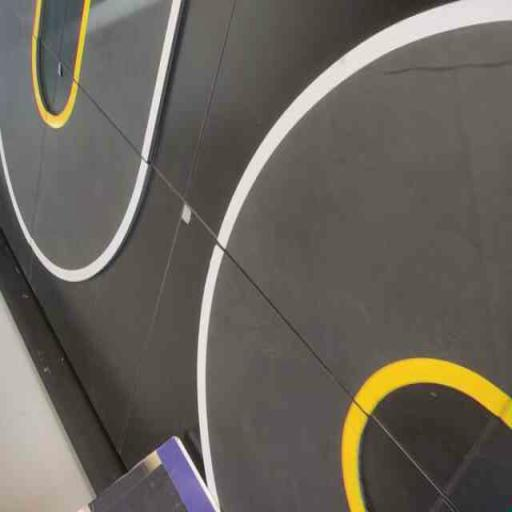left: (191, 0, 511, 425)
